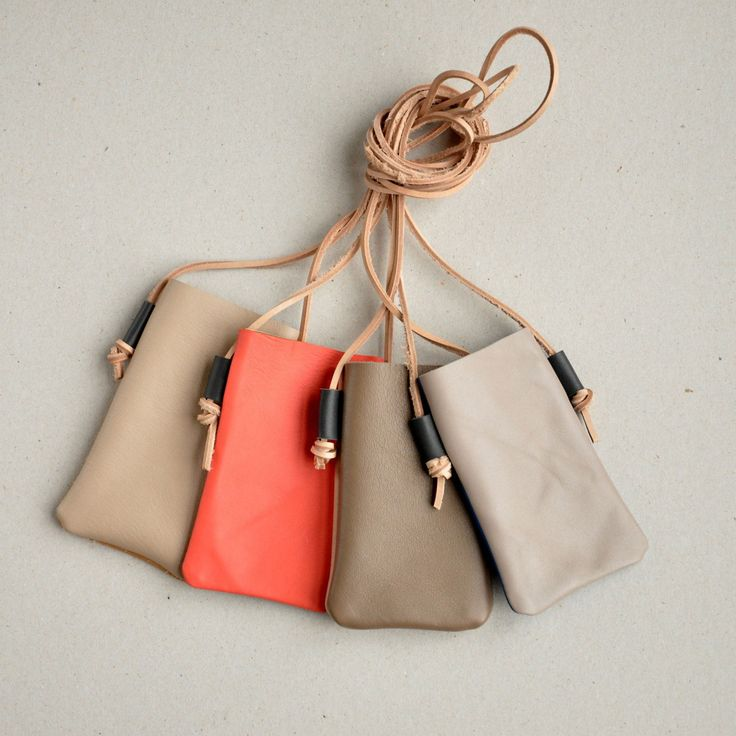cuero: (54, 277, 649, 632)
